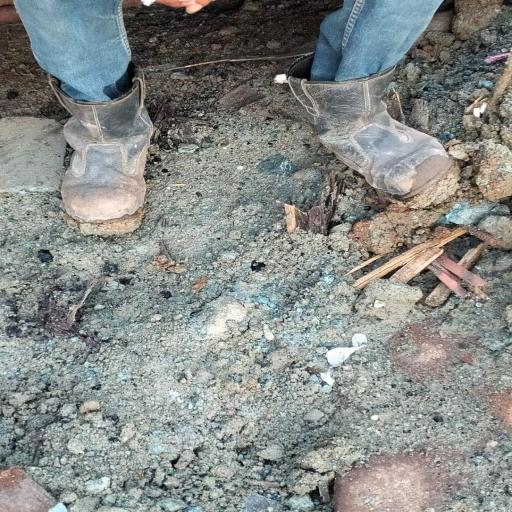safety_shoe: (276, 78, 458, 206), (47, 75, 159, 233)
